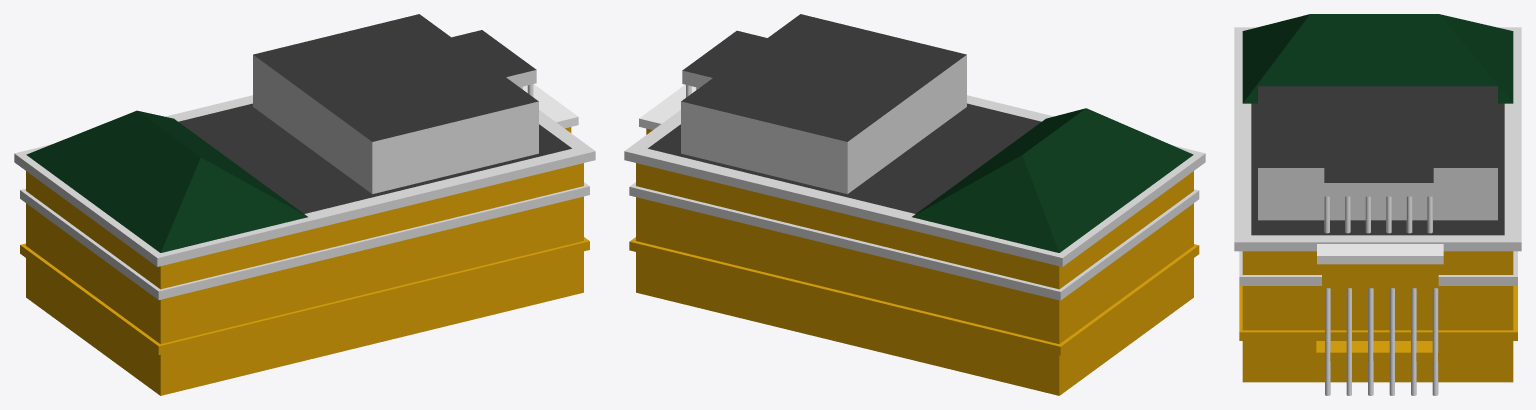
Rendered from financial.glb.
3 renders of one model, left to right at view 1: azimuth 30°, elevation 25°; view 2: azimuth 150°, elevation 25°; view 3: azimuth 270°, elevation 25°, orthographic.
Visible parts, largest first — view 1: Cylinder.002; view 2: Cylinder.002; view 3: Cylinder.002.
Part boxes in pixels (x1=…): Cylinder.002: x1=14, y1=14, x2=595, y2=395; Cylinder.002: x1=624, y1=14, x2=1205, y2=395; Cylinder.002: x1=1234, y1=14, x2=1521, y2=395.
Bounding box in the file's own units: 256 × 104 × 137.
